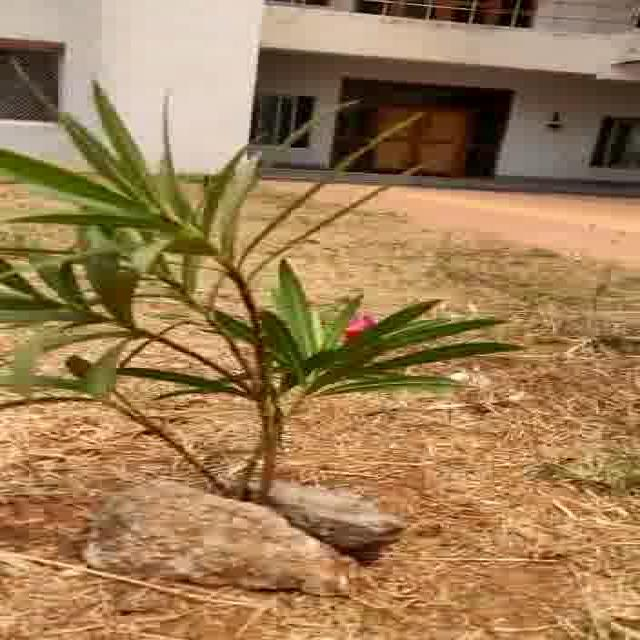Oleander: (0, 101, 551, 450)
